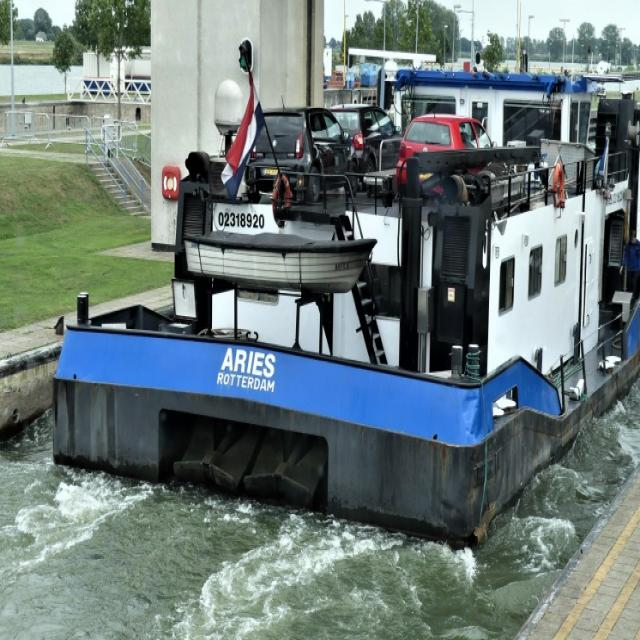tugboat: (51, 61, 640, 569)
